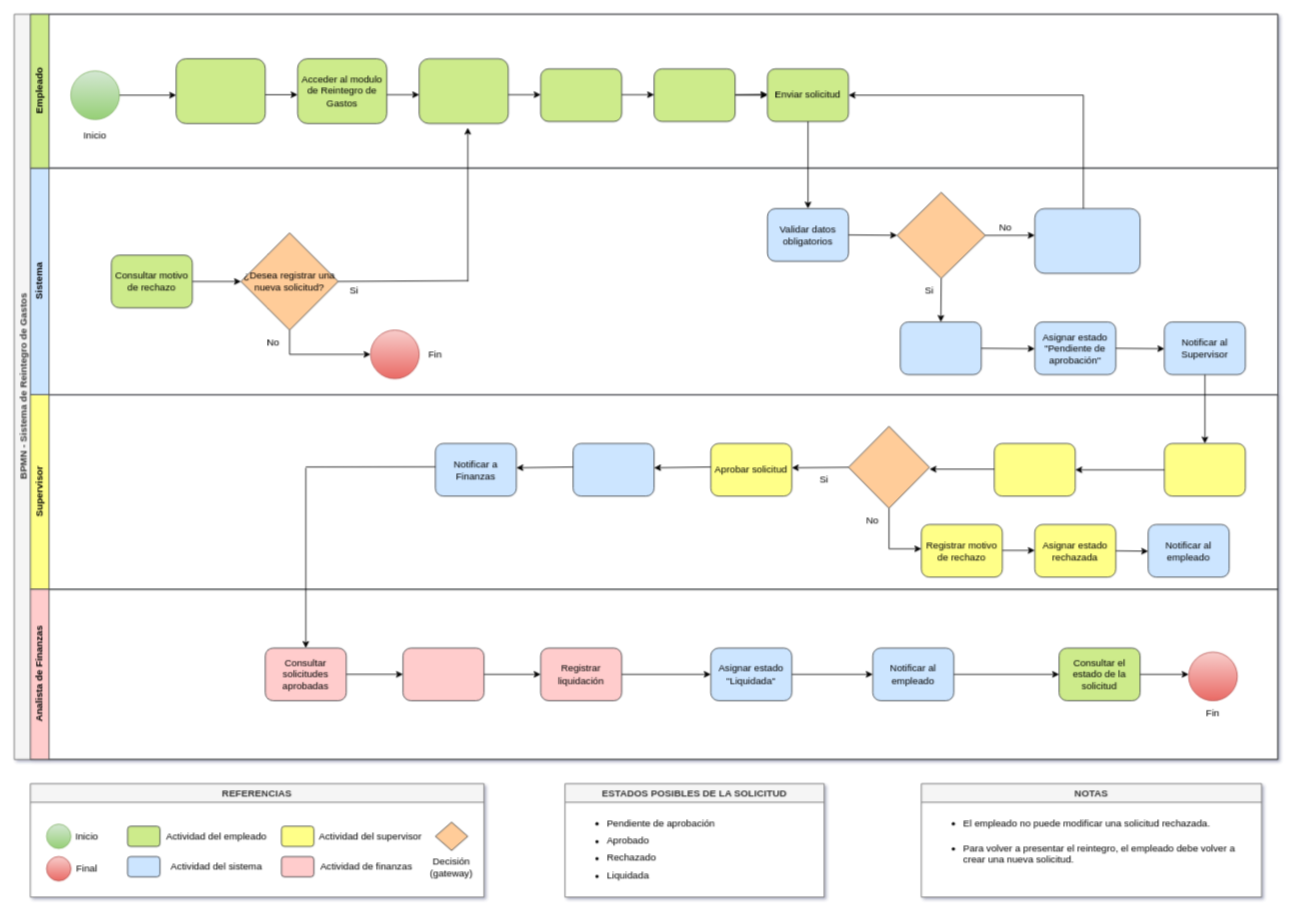
Image size: 1297x919. Some labels were removed from this diagram. Here are the shapes that lost their labels. From the top down, the centre of each, then its label:
point (220, 91): Ingresar al Portal Corporativo
point (463, 91): Seleccionar "Nueva Solicitud"
point (581, 95): Completar datos de la solicitud
point (694, 95): Adjuntar comprobante
point (940, 235): ¿La solicitud cumple con las validaciones?
point (1087, 240): Mostrar mensaje de error y permitir corregir la información
point (940, 348): Registrar solicitud
point (613, 469): Asignar estado "Aprobada"
point (888, 466): ¿Aprueba la solicitud?
point (1034, 469): Analizar información y comprobante
point (1204, 469): Consultar solicitudes pendientes
point (443, 674): Revisar información de la solicitud
